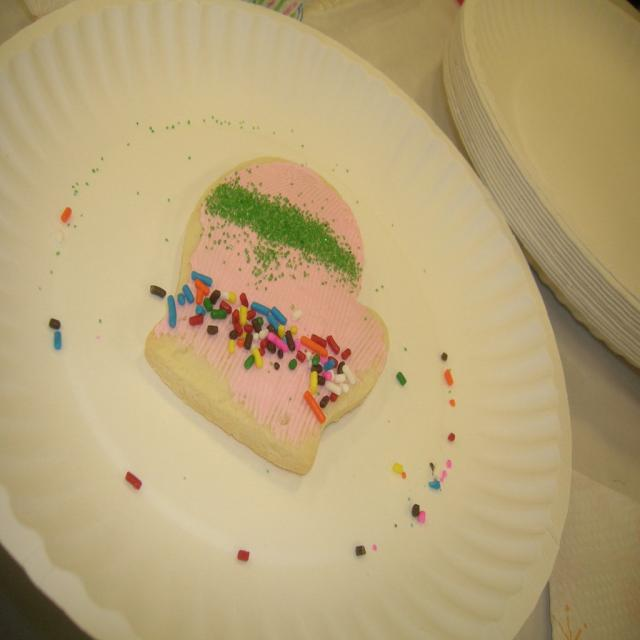non-organic waste: (0, 18, 551, 640)
